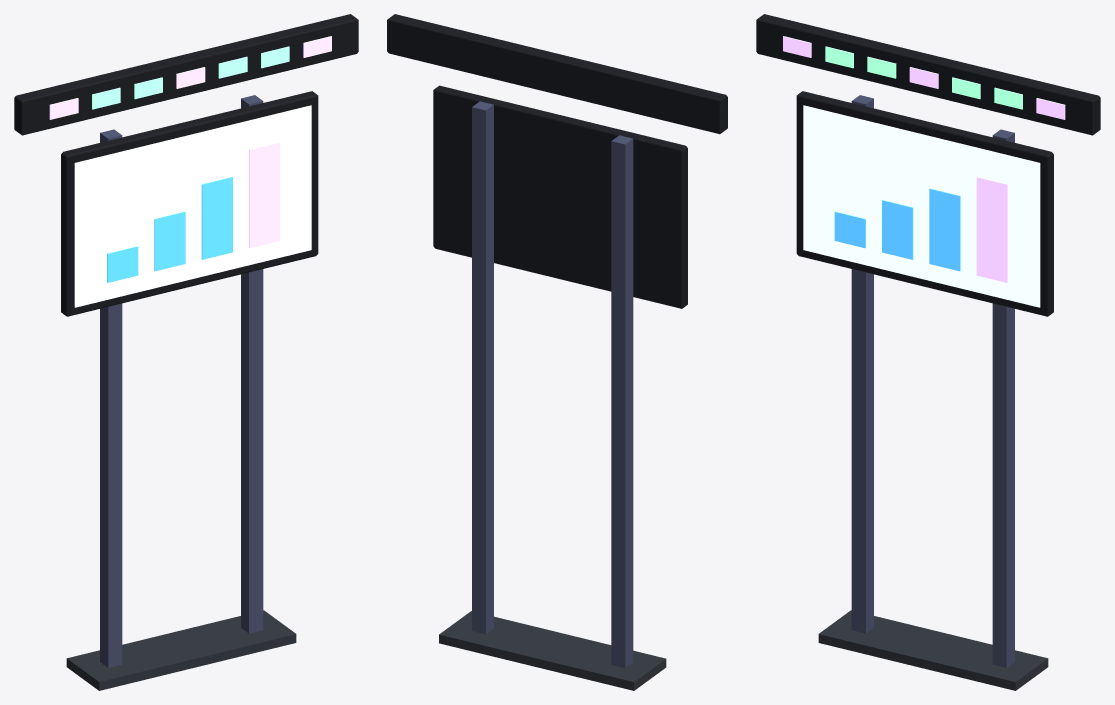
File: station_special_ausstattung_3_3.glb
The picture shows the model from 3 angles, left to right: view 1: azimuth 30°, elevation 25°; view 2: azimuth 150°, elevation 25°; view 3: azimuth 330°, elevation 25°; orthographic projection.
Visible parts, largest first — view 1: station_special_ausstattung_3_3; view 2: station_special_ausstattung_3_3; view 3: station_special_ausstattung_3_3.
Part boxes in pixels (left/top/right/bottom): station_special_ausstattung_3_3: left=14, top=14, right=358, bottom=690; station_special_ausstattung_3_3: left=387, top=14, right=727, bottom=690; station_special_ausstattung_3_3: left=756, top=14, right=1100, bottom=690.
Bounding box in the file's own units: 1.2 × 2.04 × 0.2.
